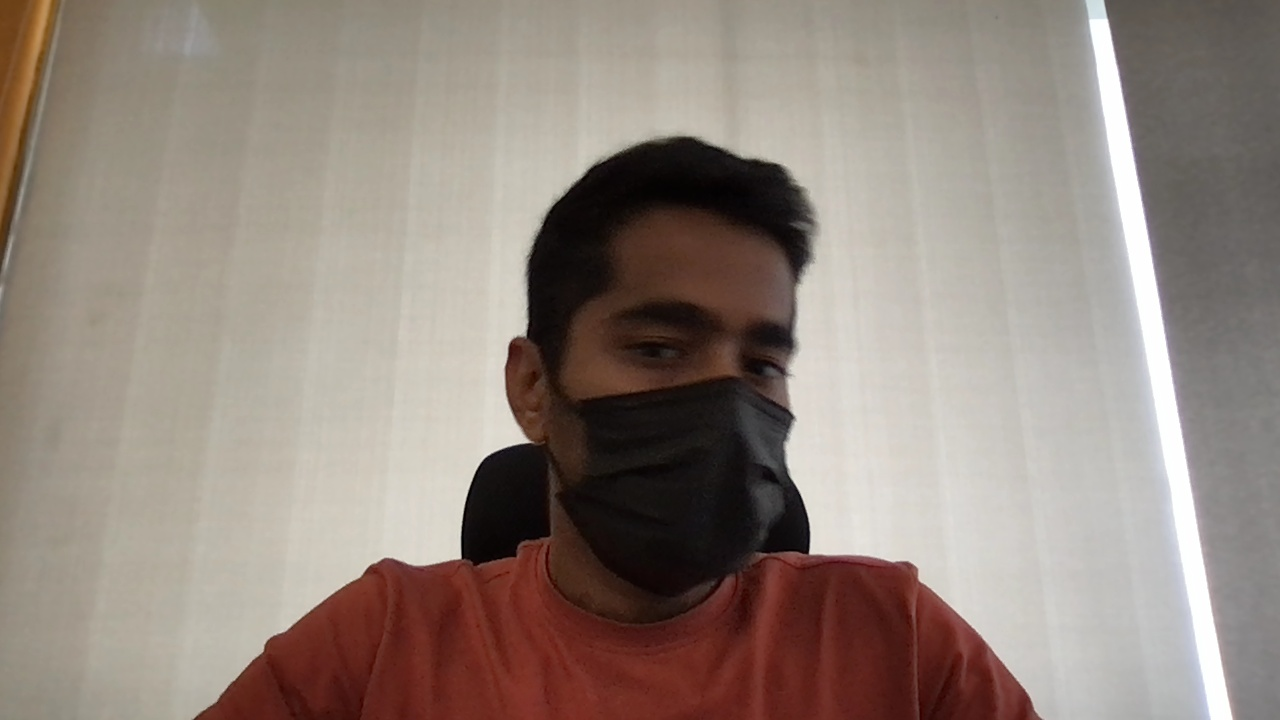mask: (571, 375, 796, 598)
